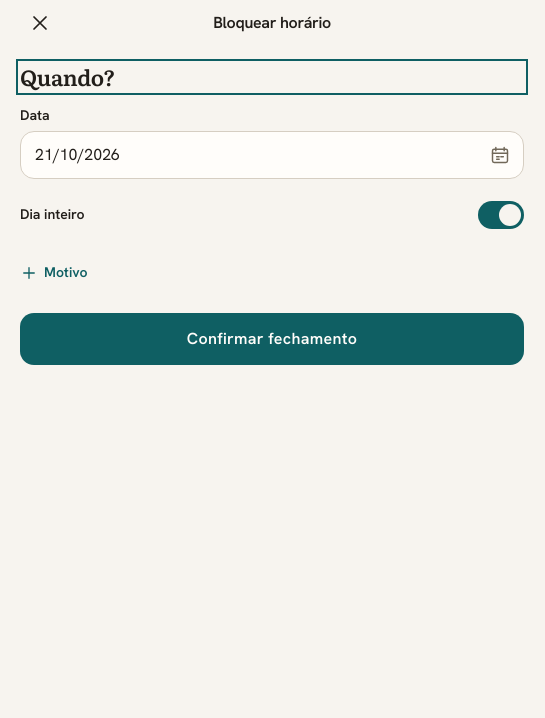
Test case: indisponibilidade que cobre atendimento confirmado › mostra o que será afetado e só reenvia com decidedReason explícito
This screenshot has width=545, height=718.
Expected: the switch named "Dia inteiro" is checked, [478,200,524,228]
Click the button "Confirmar fechamento". click: (272, 338)
box: [20,312,524,364]
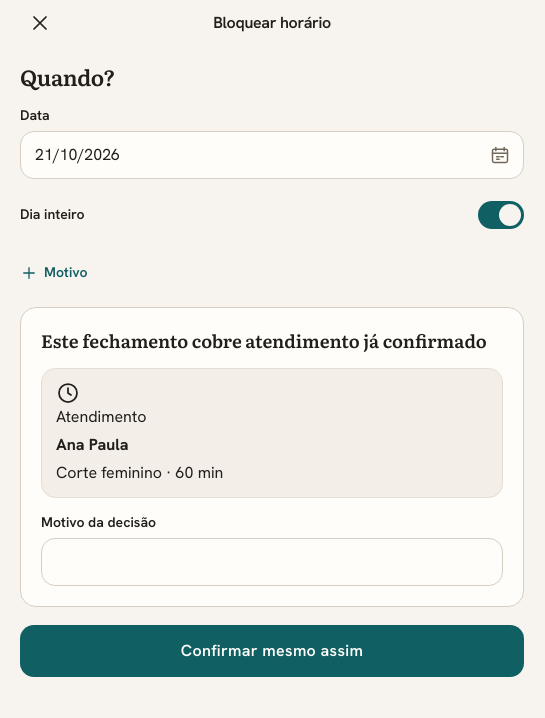
Now the heading "Este fechamento cobre atendimento já confirmado" is shown, box [41,328,503,354]
Now the text "Atendimento" is shown, box [56,381,146,427]
Now the text "Ana Paula" is shown, box [56,434,128,455]
Click the button "Confirmar mesmo assim". click: (272, 651)
box: [20,625,524,677]
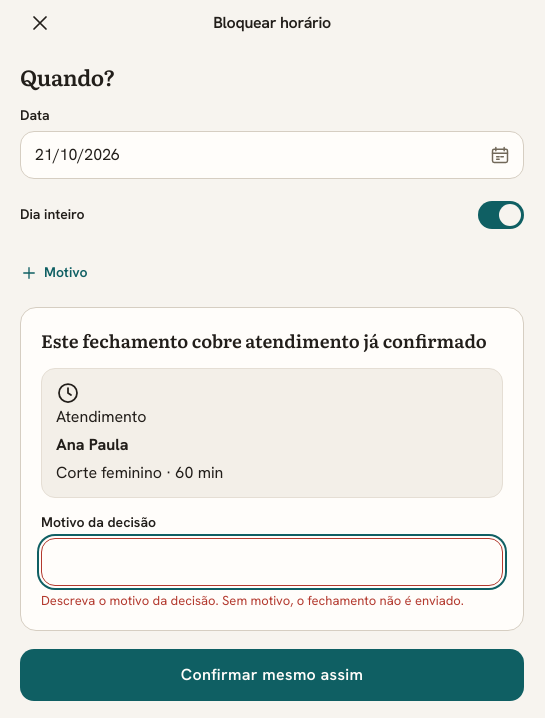
Now the text "Descreva o motivo da decisão. Sem motivo, o fechamento não é enviado." is shown, box [41,592,503,610]
Type "Fechamento excepcional para reforma" into the field labelled "Motivo da decisão". click: (272, 562)
box: [41,538,503,586]
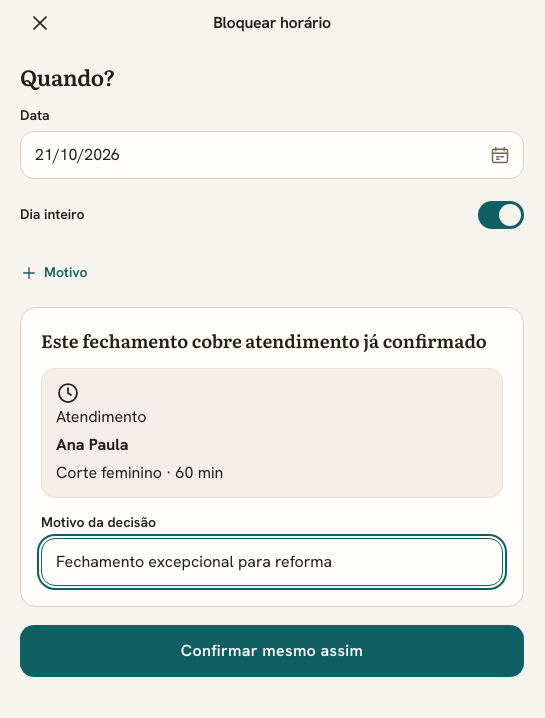
Click the button "Confirmar mesmo assim". click: (272, 651)
box: [20,625,524,677]
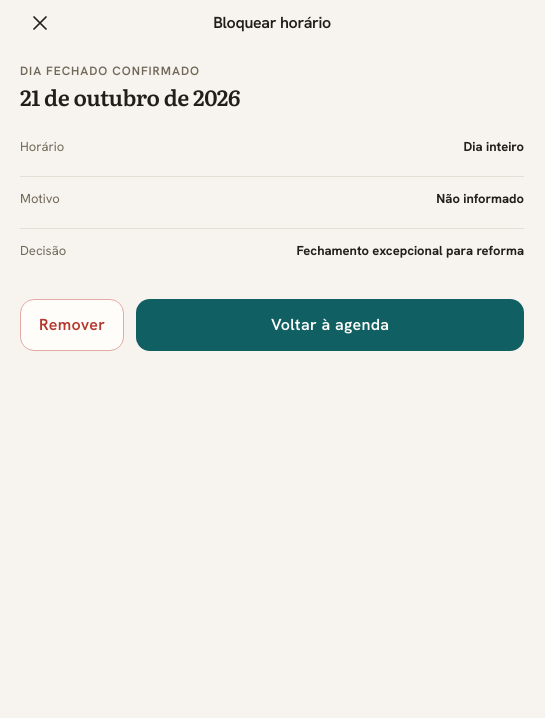
Now the text "Fechamento excepcional para reforma" is shown, box [296,240,524,260]
